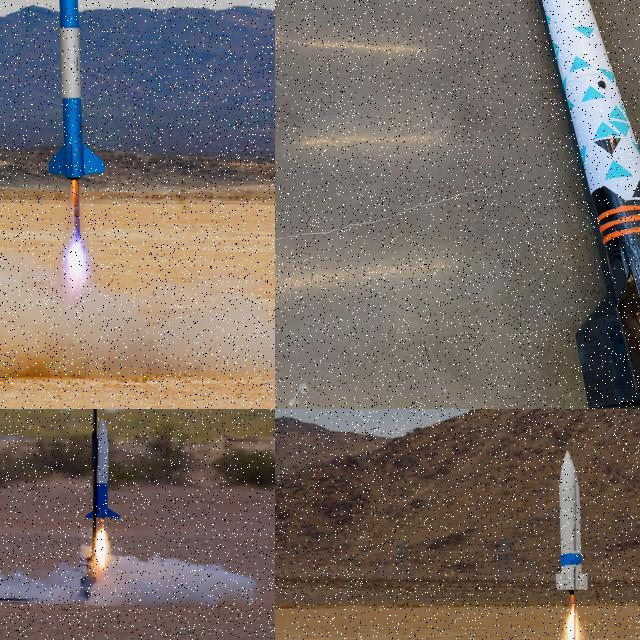Rocket: (541, 0, 640, 409), (46, 0, 107, 181), (556, 449, 589, 596), (85, 418, 122, 520)
